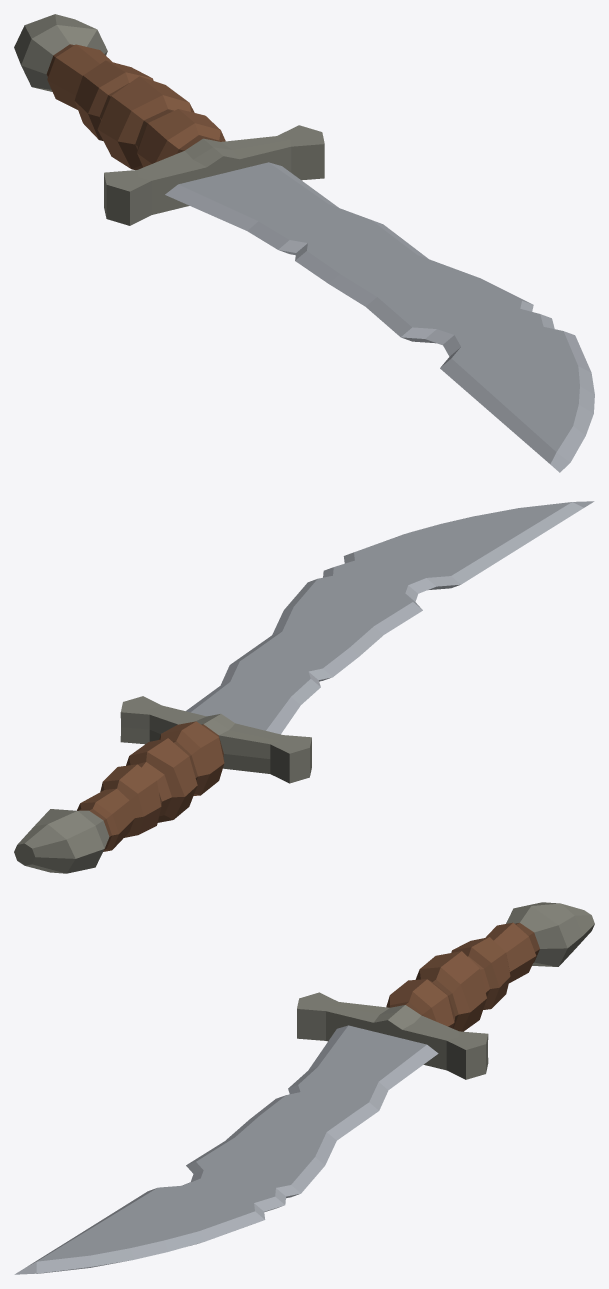
The model's file is Dagger.glb.
The picture shows the model from 3 angles, top to bottom: view 1: azimuth 30°, elevation 25°; view 2: azimuth 150°, elevation 25°; view 3: azimuth 330°, elevation 25°; orthographic projection. The views are drawn at different scales.
Visible parts, largest first — view 1: Dagger; view 2: Dagger; view 3: Dagger.
Part boxes in pixels (left/top/right/bottom): Dagger: left=14, top=14, right=594, bottom=472; Dagger: left=14, top=501, right=594, bottom=873; Dagger: left=14, top=902, right=594, bottom=1274.
Bounding box in the file's own units: 0.0949 × 0.0354 × 0.4434.
